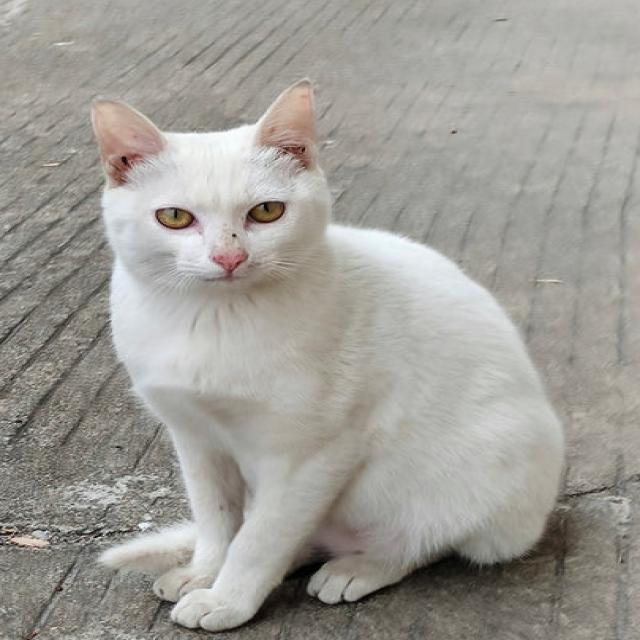Khao Manee: (87, 75, 572, 637)
